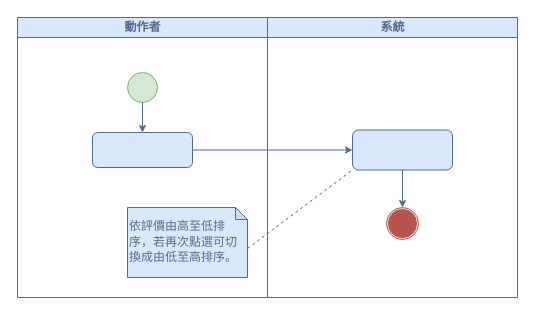
This 535x315 diagram has some shape labels left out. The centre of each missing label's shape, as x and y in pixels:
將商品 依評價排序: [402,149]
點選 依評價排序按鈕: [142,150]
